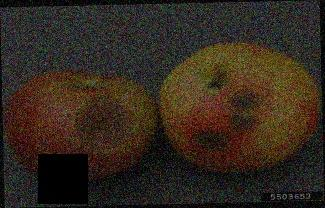rotten apple: (157, 40, 323, 184), (3, 66, 160, 183)
